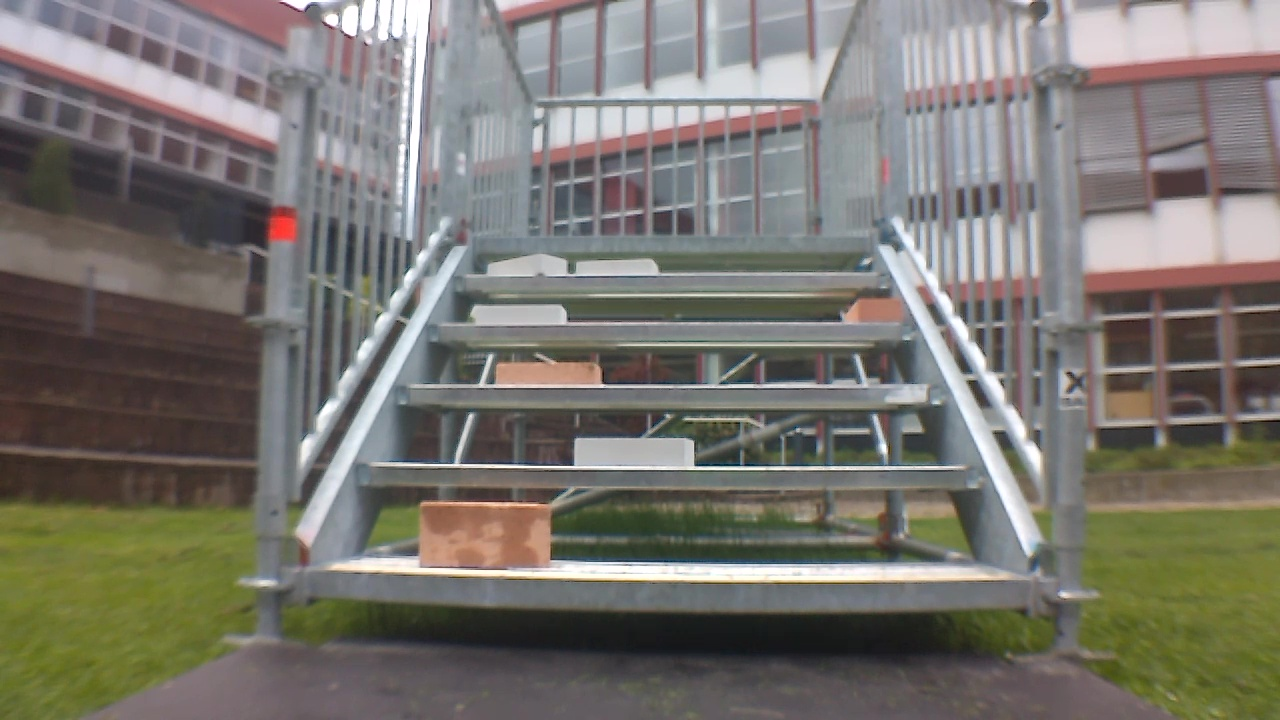brick: (420, 502, 550, 569), (576, 438, 694, 468), (496, 363, 599, 384), (476, 305, 565, 323), (487, 254, 567, 273), (847, 299, 904, 323), (577, 260, 658, 275)
edge: (312, 568, 1030, 612), (352, 464, 983, 489), (394, 384, 950, 407), (424, 323, 922, 341), (452, 272, 892, 290), (474, 234, 873, 251)
stairs: (235, 1, 1102, 656)
steps: (308, 230, 1037, 621)
